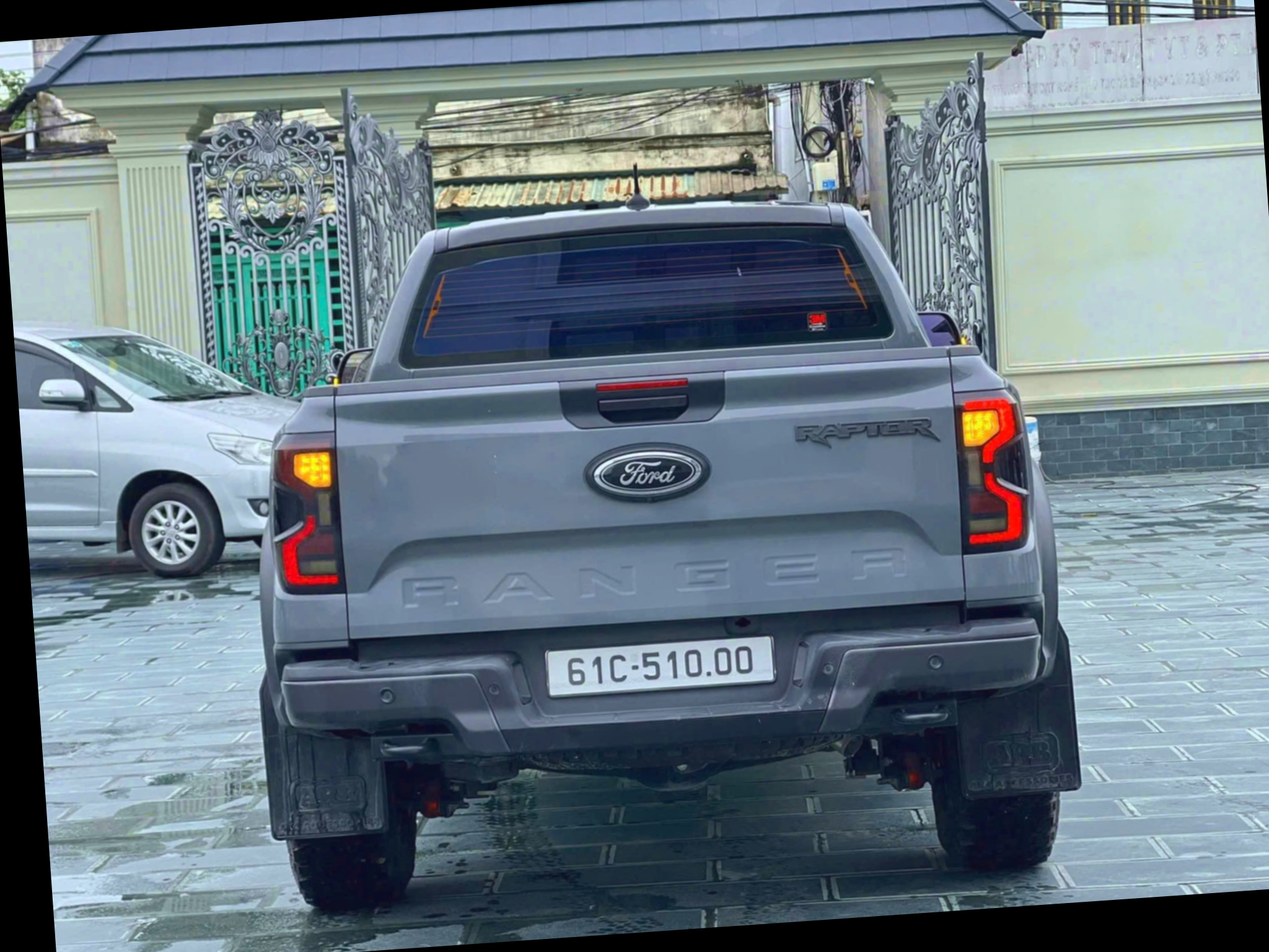Bien-so: (494, 654, 735, 709)
